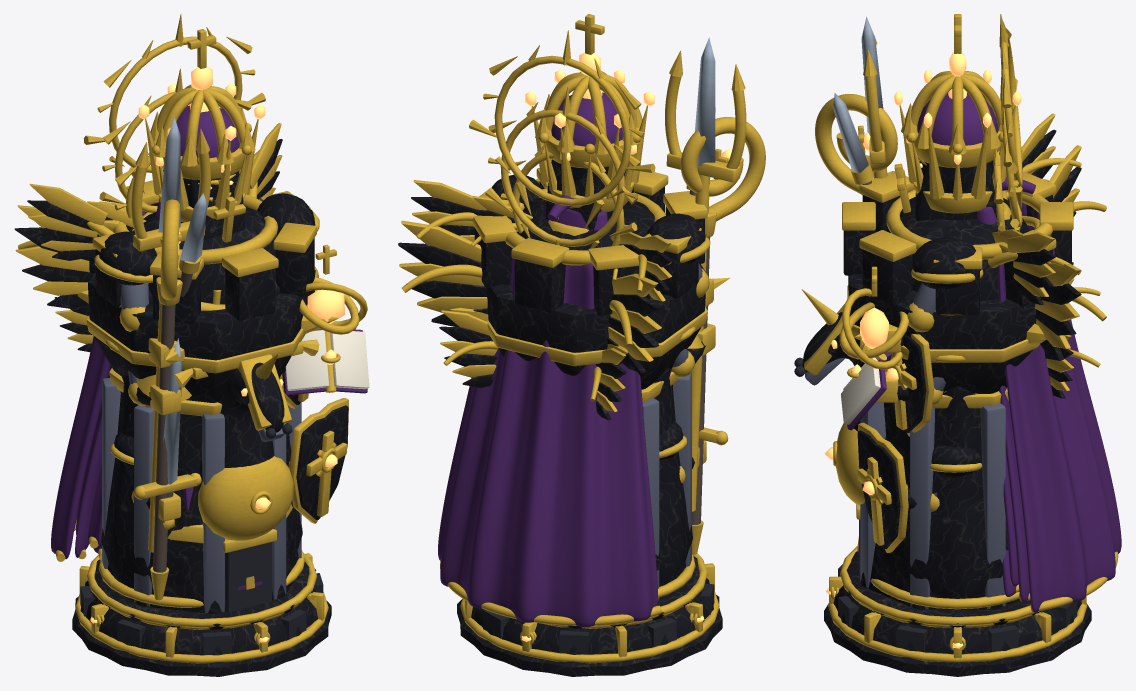
The model's file is sovereign_black.glb.
3 views of the same model, side by side, from view 1: azimuth 30°, elevation 25°; view 2: azimuth 150°, elevation 25°; view 3: azimuth 270°, elevation 25° (orthographic). The views are drawn at different scales.
Parts seen in each view (by area): view 1: Mesh_Body_k, Mesh_WeaponArm_r, Plinth_k, Mesh_Body_r, Mesh_Body_n, Mesh_Head_k, Mesh_Body_q, Mesh_WeaponArm_b, Mesh_ShieldArm_p, Mesh_WeaponArm_q, Mesh_Head_q, Mesh_ShieldArm_b (+8 smaller); view 2: Mesh_Body_k, Mesh_WeaponArm_r, Mesh_Body_q, Plinth_k, Mesh_Head_k, Mesh_Head_q, Mesh_WeaponArm_q, Mesh_WeaponArm_b, Mesh_Body_r, Mesh_Head_b, Mesh_WeaponArm_k, Mesh_Head_n (+1 smaller); view 3: Mesh_Body_k, Mesh_WeaponArm_r, Plinth_k, Mesh_Body_r, Mesh_Head_k, Mesh_Body_q, Mesh_ShieldArm_p, Mesh_Head_q, Mesh_Body_n, Mesh_ShieldArm_k, Mesh_ShieldArm_q, Mesh_WeaponArm_b (+7 smaller).
Boxes of the visible parts, bbox=[...] form: Mesh_Body_k: bbox=[27, 123, 302, 586]; Mesh_WeaponArm_r: bbox=[77, 180, 338, 402]; Plinth_k: bbox=[72, 552, 331, 676]; Mesh_Body_r: bbox=[101, 368, 301, 613]; Mesh_Body_n: bbox=[182, 354, 293, 540]; Mesh_Head_k: bbox=[83, 14, 265, 205]; Mesh_Body_q: bbox=[14, 150, 304, 607]; Mesh_WeaponArm_b: bbox=[105, 199, 182, 600]; Mesh_ShieldArm_p: bbox=[288, 398, 348, 523]; Mesh_WeaponArm_q: bbox=[119, 117, 210, 552]; Mesh_Head_q: bbox=[99, 68, 265, 223]; Mesh_ShieldArm_b: bbox=[284, 329, 369, 395]; Mesh_Body_k: bbox=[411, 180, 692, 626]; Mesh_WeaponArm_r: bbox=[450, 168, 729, 389]; Mesh_Body_q: bbox=[398, 220, 695, 597]; Plinth_k: bbox=[457, 553, 722, 676]; Mesh_Head_k: bbox=[469, 14, 655, 228]; Mesh_Head_q: bbox=[485, 69, 654, 248]; Mesh_WeaponArm_q: bbox=[665, 37, 746, 511]; Mesh_WeaponArm_b: bbox=[671, 117, 765, 554]; Mesh_Body_r: bbox=[641, 371, 692, 600]; Mesh_Head_b: bbox=[500, 144, 637, 246]; Mesh_WeaponArm_k: bbox=[646, 213, 710, 305]; Mesh_Head_n: bbox=[471, 195, 642, 281]; Mesh_Body_k: bbox=[877, 113, 1121, 612]; Mesh_WeaponArm_r: bbox=[842, 171, 1073, 393]; Plinth_k: bbox=[824, 546, 1091, 676]; Mesh_Body_r: bbox=[856, 388, 1019, 609]; Mesh_Head_k: bbox=[901, 14, 1022, 211]; Mesh_Body_q: bbox=[870, 145, 1106, 609]; Mesh_ShieldArm_p: bbox=[857, 422, 982, 552]; Mesh_Head_q: bbox=[894, 69, 1022, 232]; Mesh_Body_n: bbox=[794, 289, 887, 505]; Mesh_ShieldArm_k: bbox=[902, 237, 983, 332]; Mesh_ShieldArm_q: bbox=[839, 266, 981, 369]; Mesh_WeaponArm_b: bbox=[815, 94, 897, 194].
Bounding box in the file's own units: 0.8751 × 1.93 × 0.9433.
Materials: 9 (3 with a texture image).
